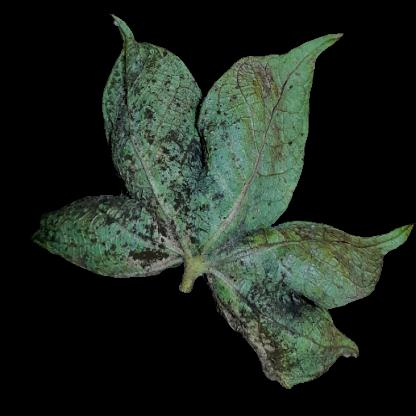curl_stage2: (305, 224, 364, 298), (241, 60, 276, 136), (247, 133, 280, 197), (279, 52, 313, 104)
sooty: (124, 66, 222, 260), (221, 285, 315, 363), (58, 207, 124, 259), (223, 221, 268, 292)
